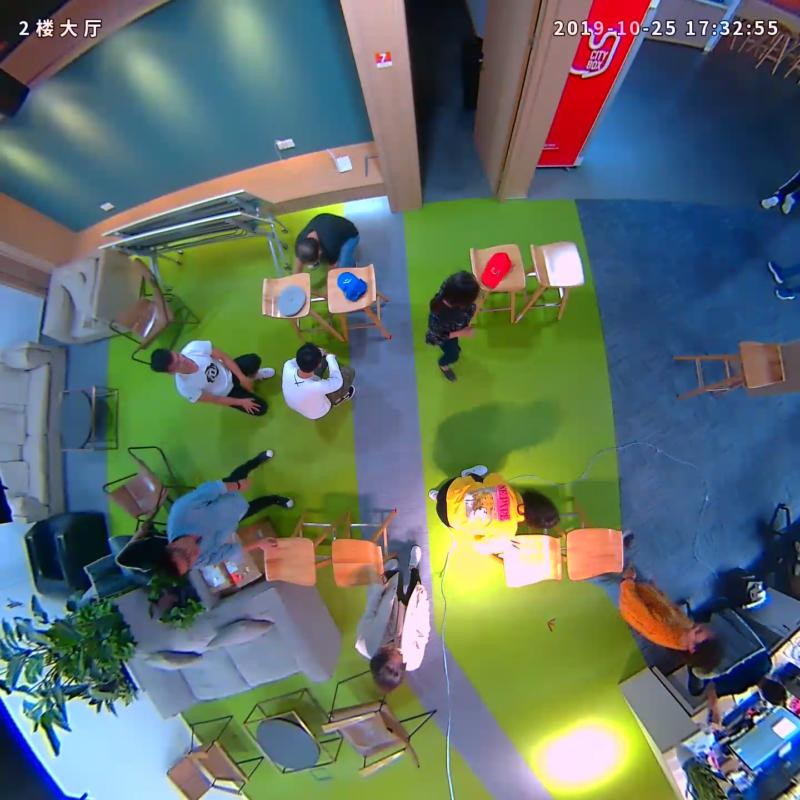head: (143, 535, 203, 581), (679, 619, 731, 671), (513, 485, 567, 535), (365, 642, 413, 694), (438, 267, 489, 312), (140, 344, 195, 380), (287, 337, 321, 379), (290, 232, 324, 266)
